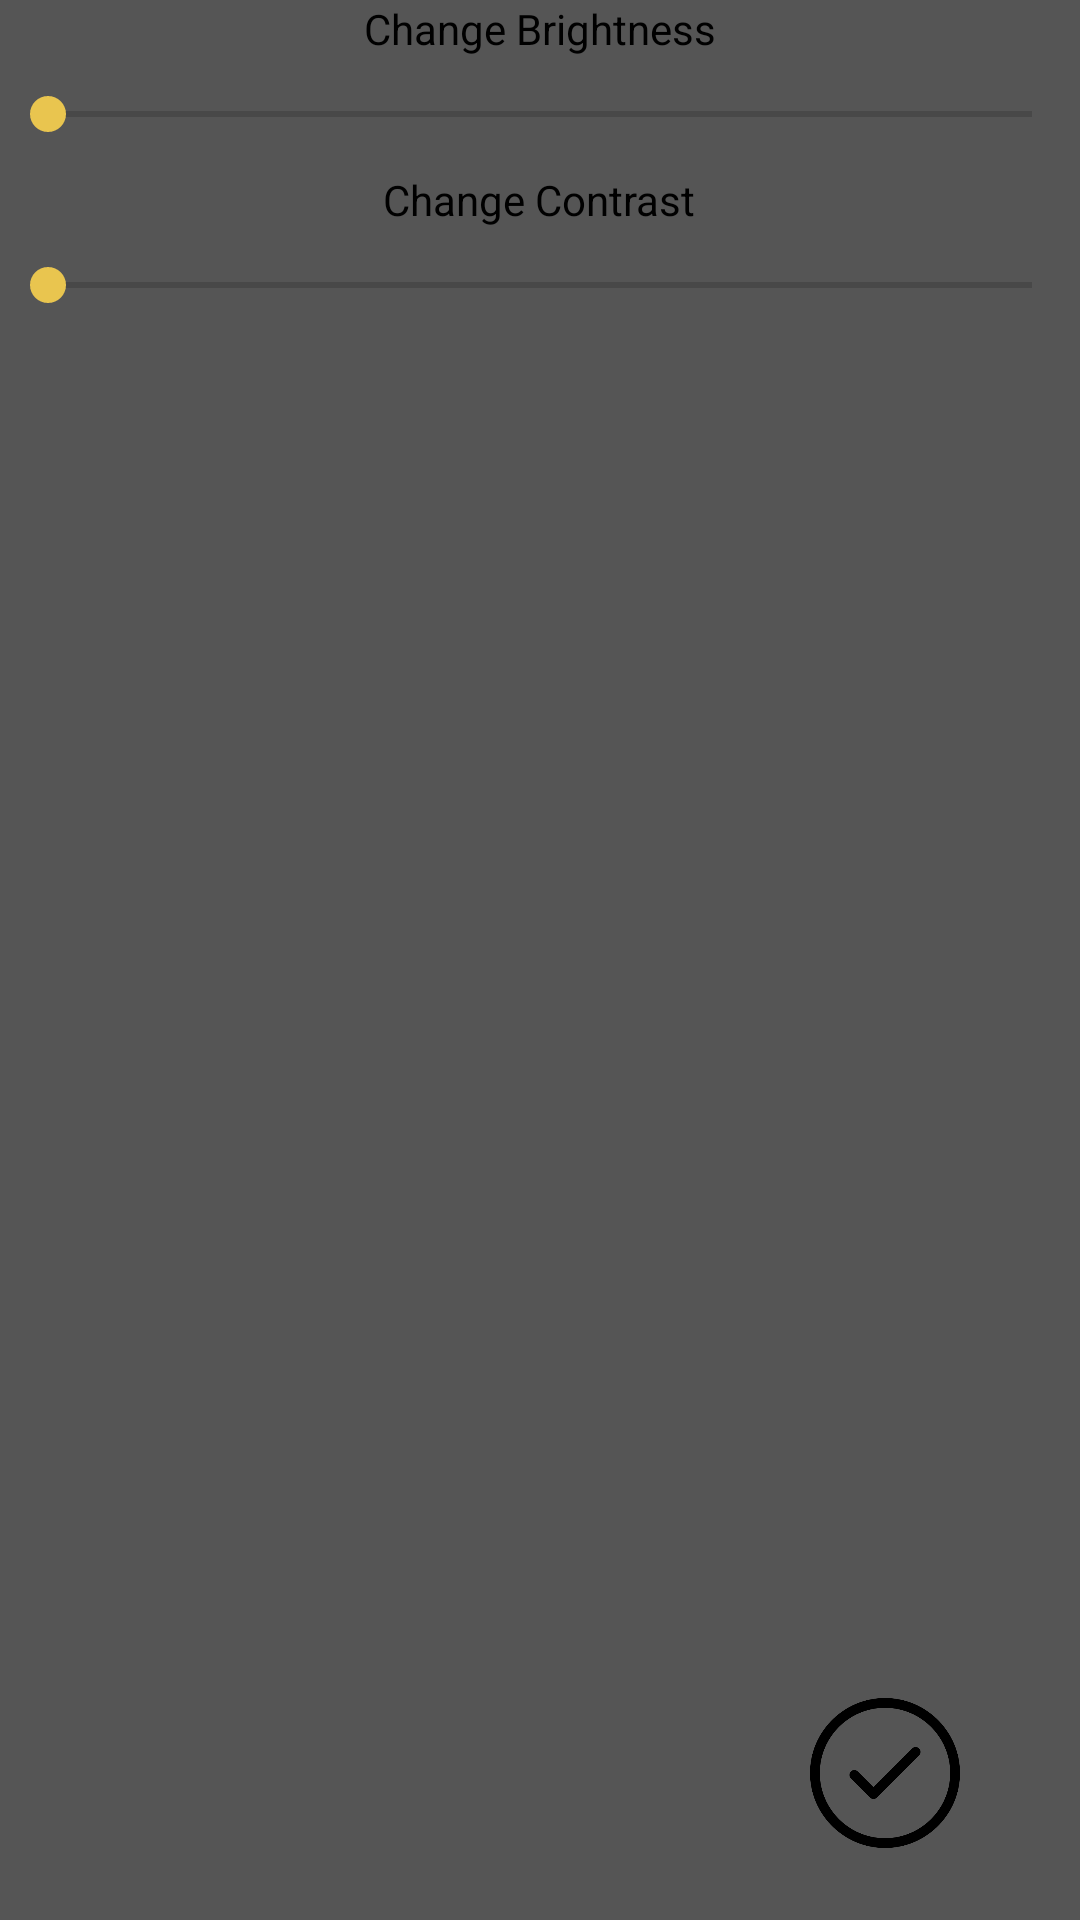

Where icons sit on this 1080 x 1920 app screen, as (x1, y1, x2, y2):
done: (810, 1698, 960, 1848)
